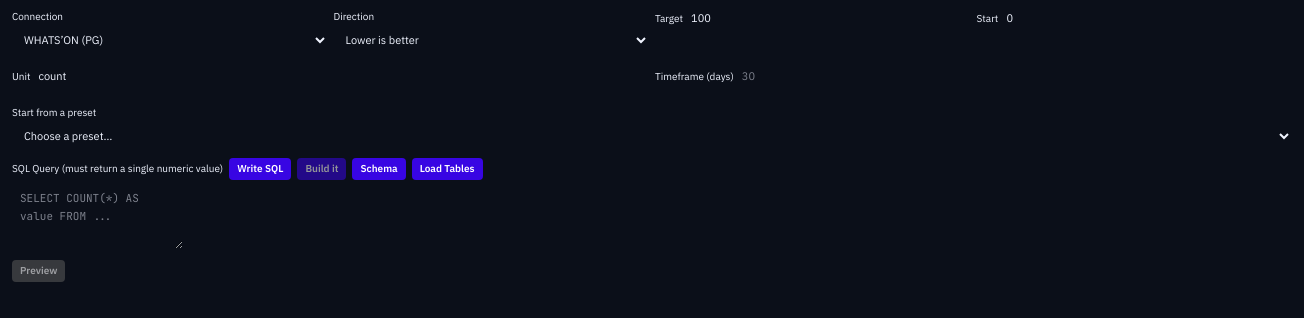
Scenario: LiveKRConfigPanel — no-SQL paths › lists only the presets for the selected connection’s dialect and applies one
Select "Transmissions with Live Subtitling — last 30 days" in the dropdown named "KR preset": (652, 136) [12,122,1292,150]
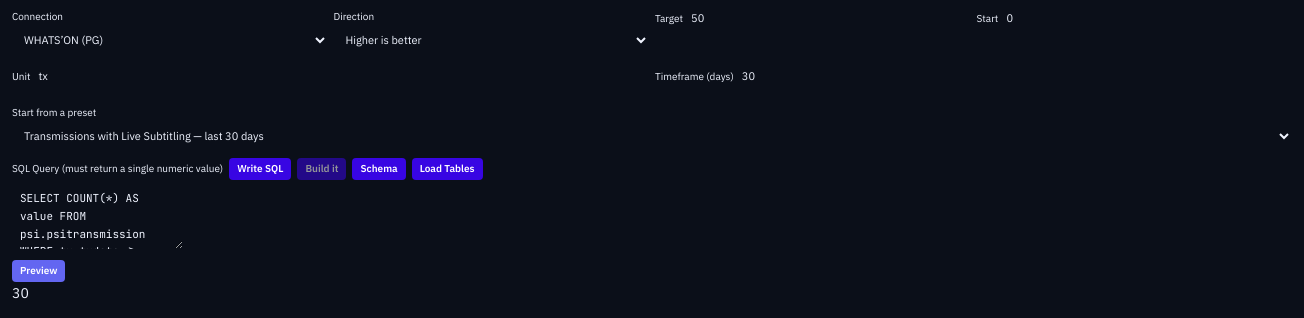
Result: the text box named "KR SQL query" holds "SELECT COUNT(*) AS value FROM psi.psitransmission WHERE tx_txdate >= :start_date" at [12,184,183,249]
Result: the field named "KR unit" holds "tx" at [30,62,174,92]
Result: the dropdown named "KR direction" shows "Higher is better" at [334,26,649,54]
